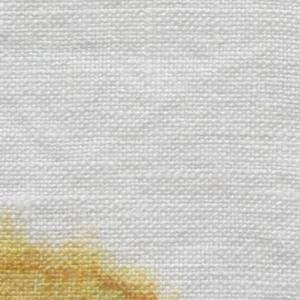Oil Stain: (1, 203, 167, 300)
